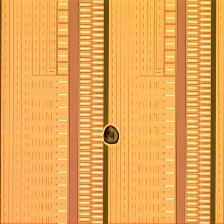PARTICLE: (100, 125, 123, 147)
